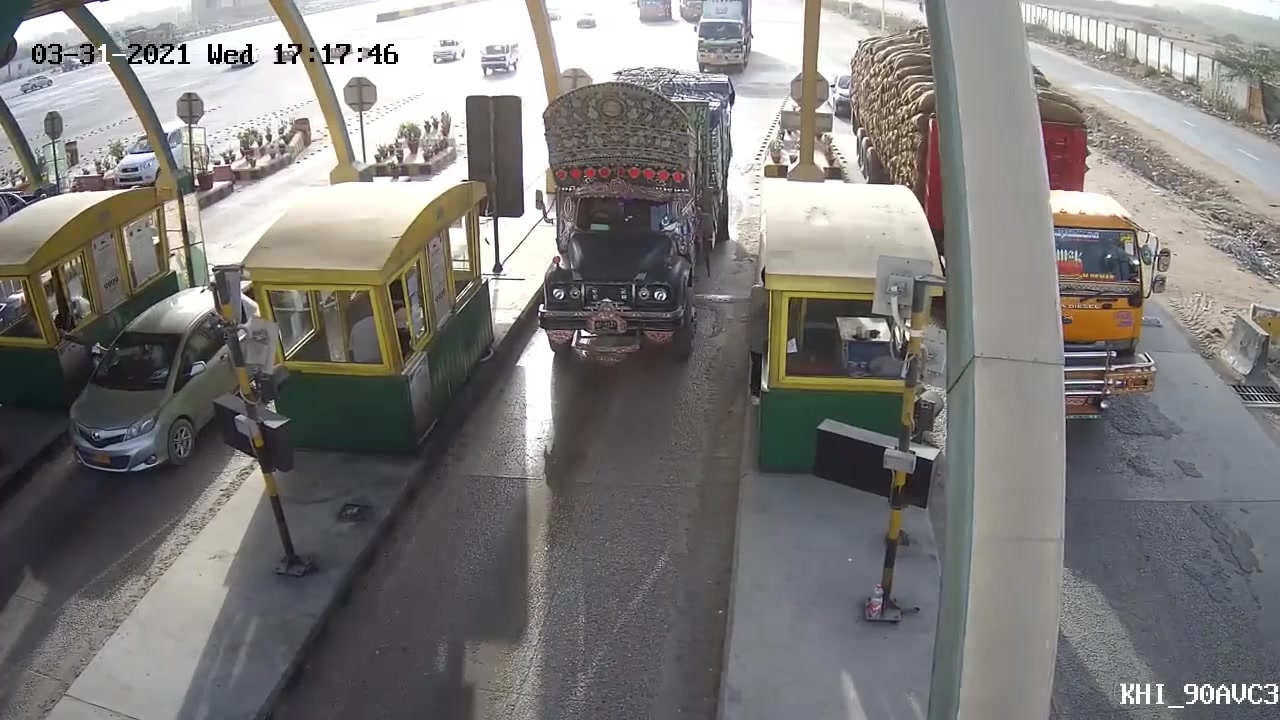F4: (530, 70, 721, 357)
